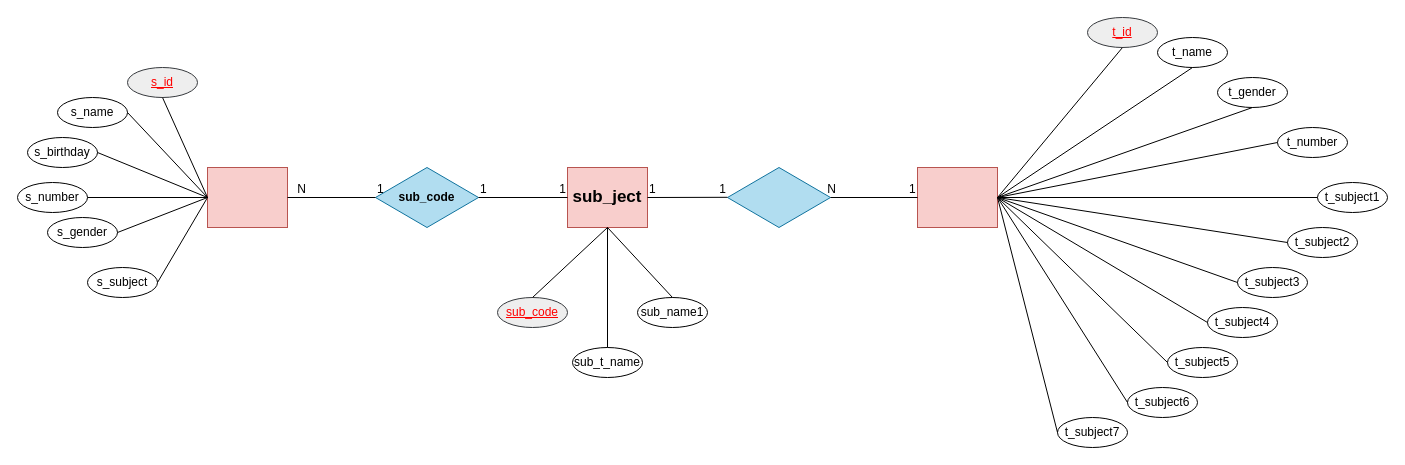
The diagram is 1405 pixels wide and 465 high, and some of its shapes have lost their labels. Each missing label, with the centre of its shape:
Student: pixel 247 197
sub-code: pixel 778 197
teacher: pixel 957 197
